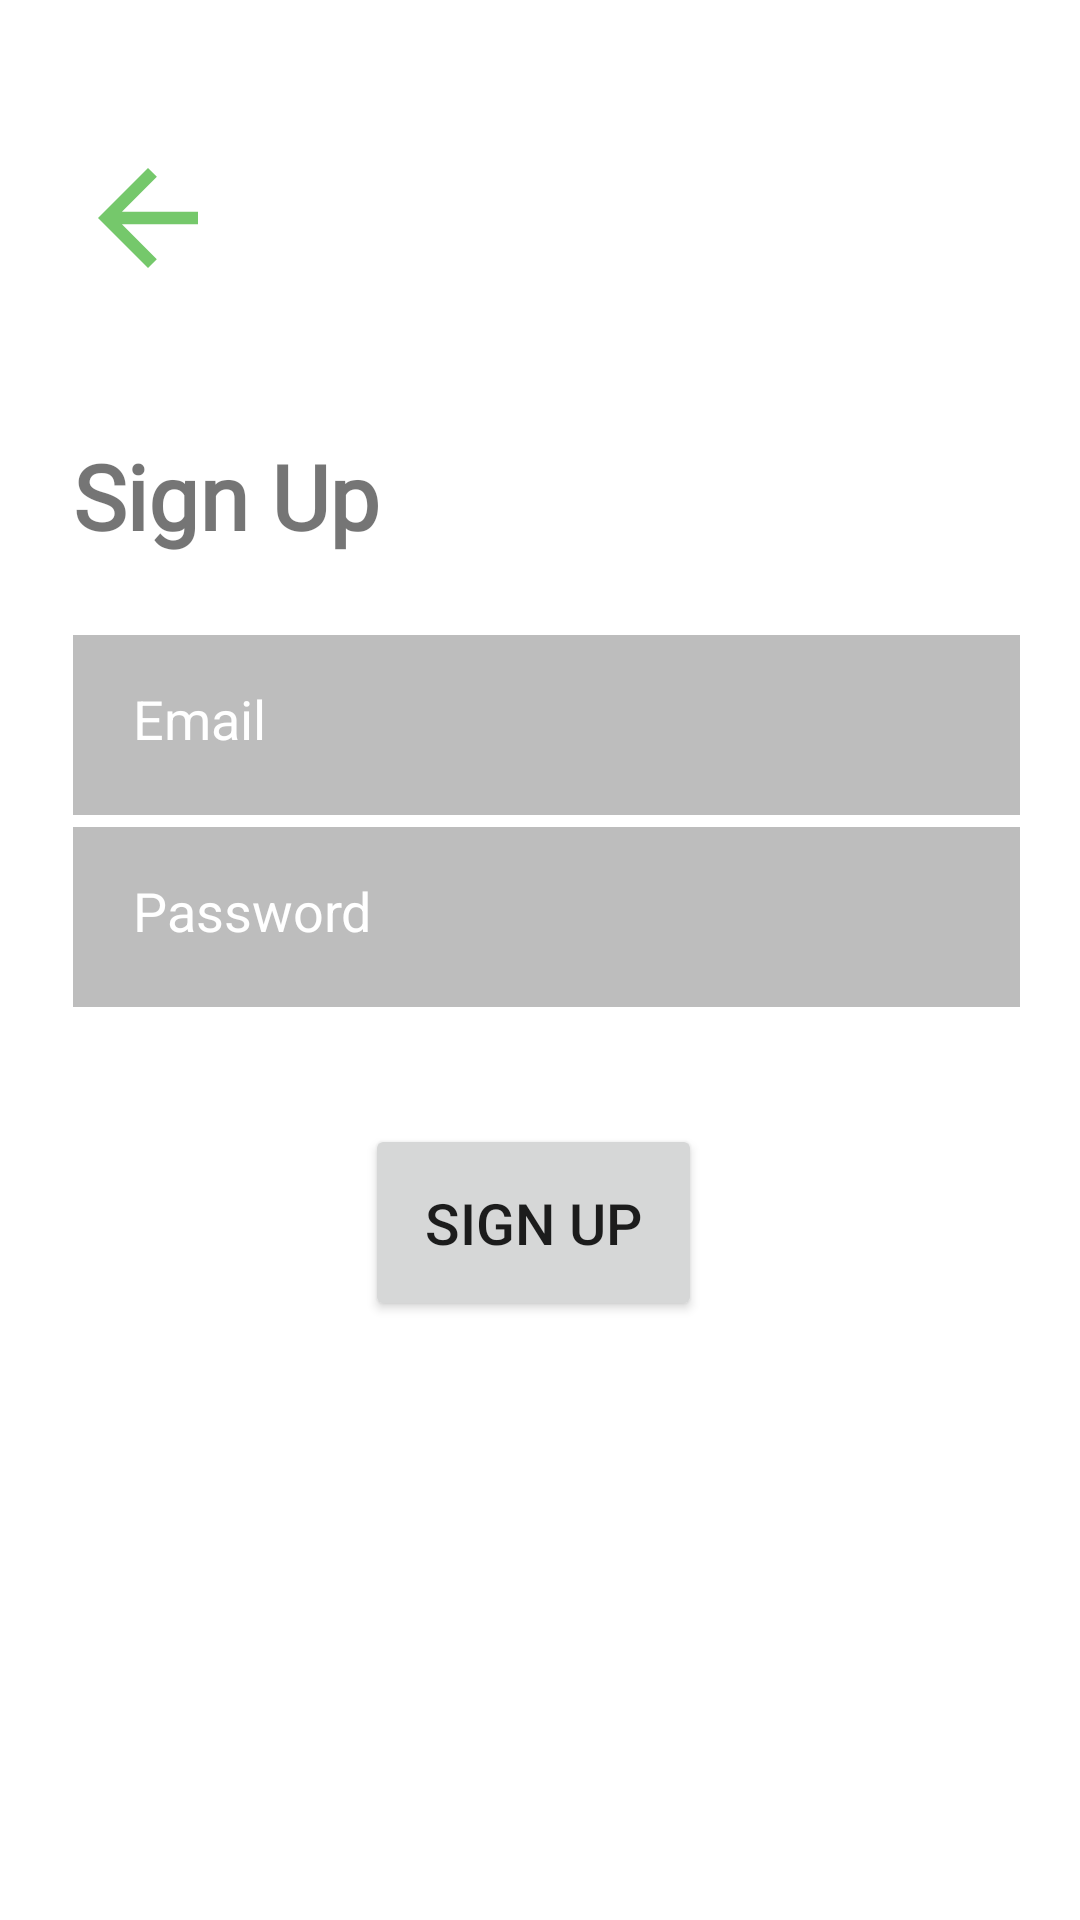

Icon click points for this 1080×1920 phone screenshot, format (x,y):
arrow back: (148,218)
